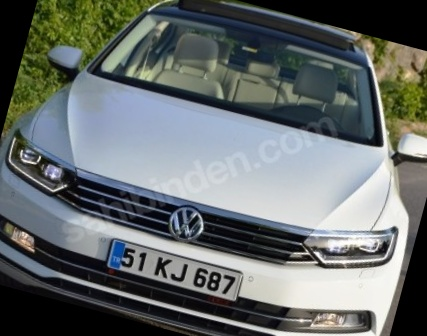plaka: (113, 243, 236, 299)
